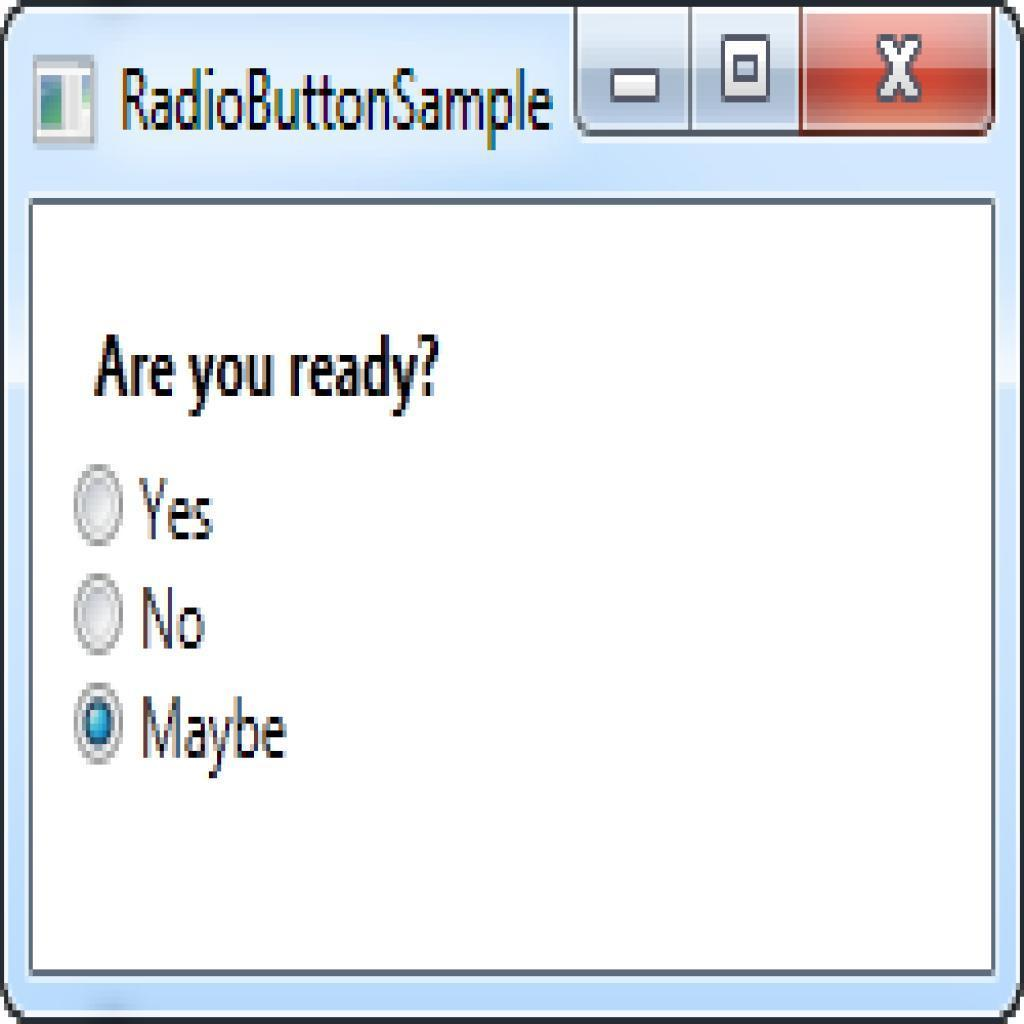label: (92, 330, 454, 415), (136, 691, 291, 775), (136, 471, 226, 543), (140, 580, 215, 659)
radio: (70, 561, 131, 666), (72, 457, 126, 555), (75, 674, 126, 770)
